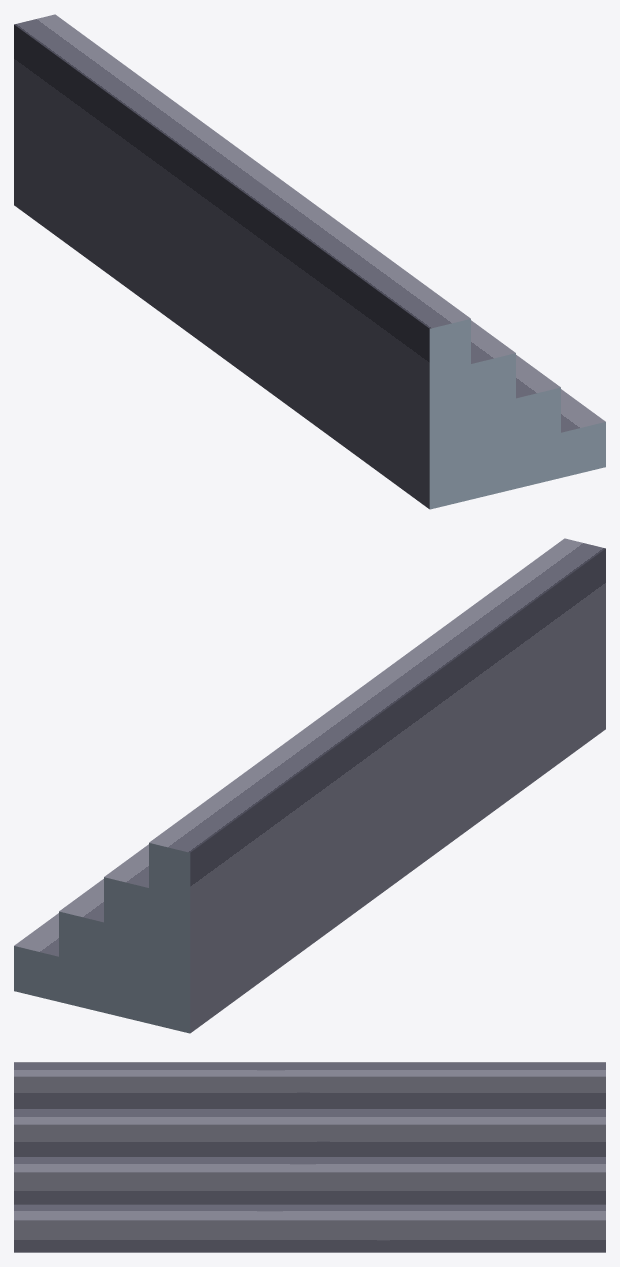
The model's file is escalera.fbx.
The picture shows the model from 3 angles, top to bottom: view 1: azimuth 30°, elevation 25°; view 2: azimuth 150°, elevation 25°; view 3: azimuth 270°, elevation 25°; orthographic projection. The views are drawn at different scales.
Visible parts, largest first — view 1: escalera; view 2: escalera; view 3: escalera.
Part boxes in pixels (x1,y1,x2,y2): escalera: [14, 14, 605, 509]; escalera: [14, 538, 605, 1033]; escalera: [14, 1062, 605, 1252].
Size of the model in its own units: 294 by 289 by 1200.
